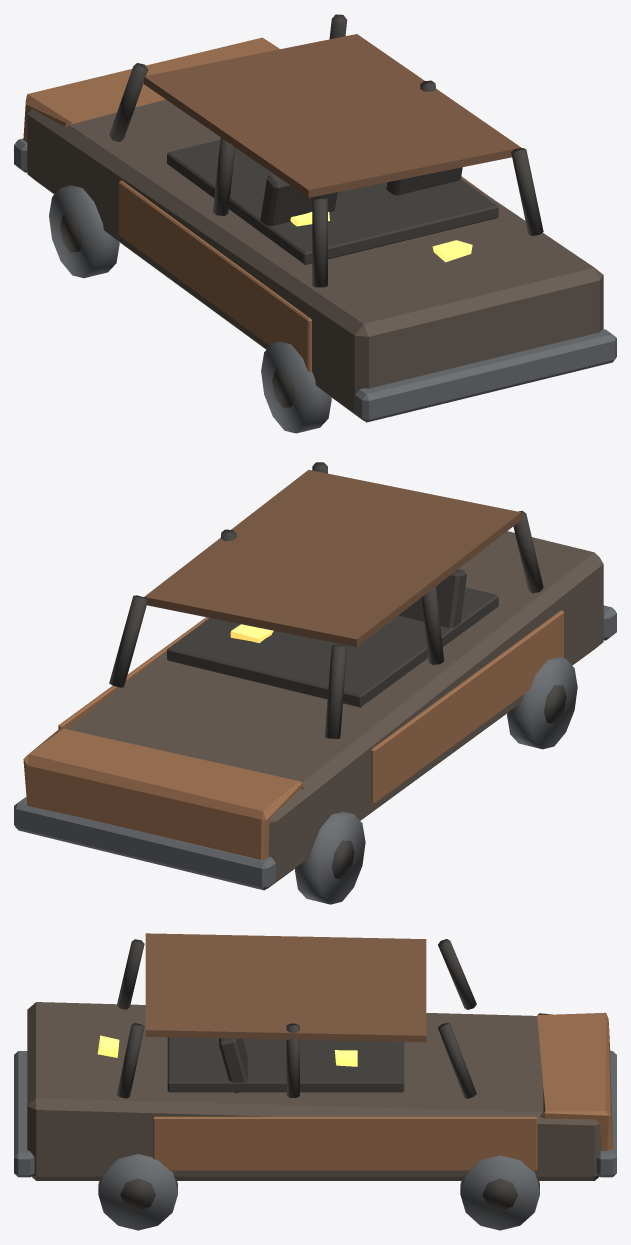
File: v_car_burnt.glb
3 renders of one model, top to bottom at view 1: azimuth 30°, elevation 25°; view 2: azimuth 150°, elevation 25°; view 3: azimuth 270°, elevation 25°, orthographic. The views are drawn at different scales.
Visible parts, largest first — view 1: Car_burnt; view 2: Car_burnt; view 3: Car_burnt.
Boxes of the visible parts, box(x1,y1,x2,y2) form: Car_burnt: box(14, 14, 616, 433); Car_burnt: box(14, 462, 616, 904); Car_burnt: box(14, 933, 616, 1230).
Size of what is drawn, in the model's own units: 1.83 by 1.47 by 4.08.
